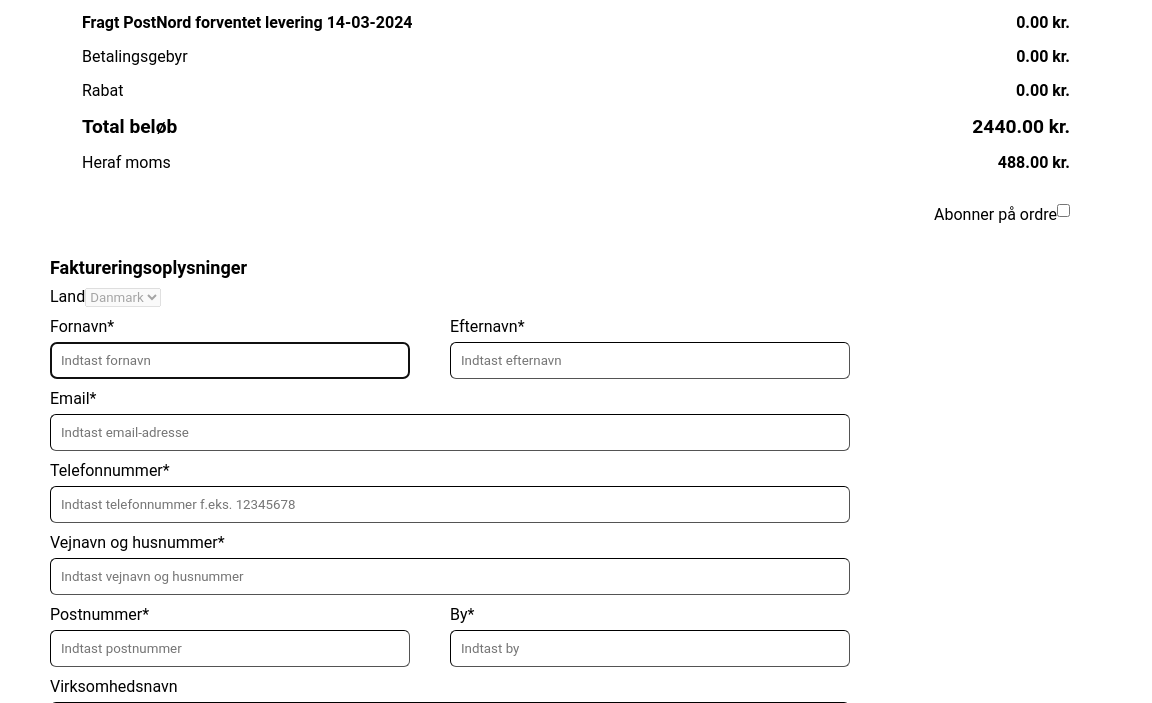
Test: Testing Contactform › field Telefonnummer should display "Telefonnummer skal være 8 tegn langt." when number is too short
(page scrolled)
In the field labelled "Telefonnummer*": {"x": 450, "y": 504} top-left (50, 486), bottom-right (850, 523), type "9999999"
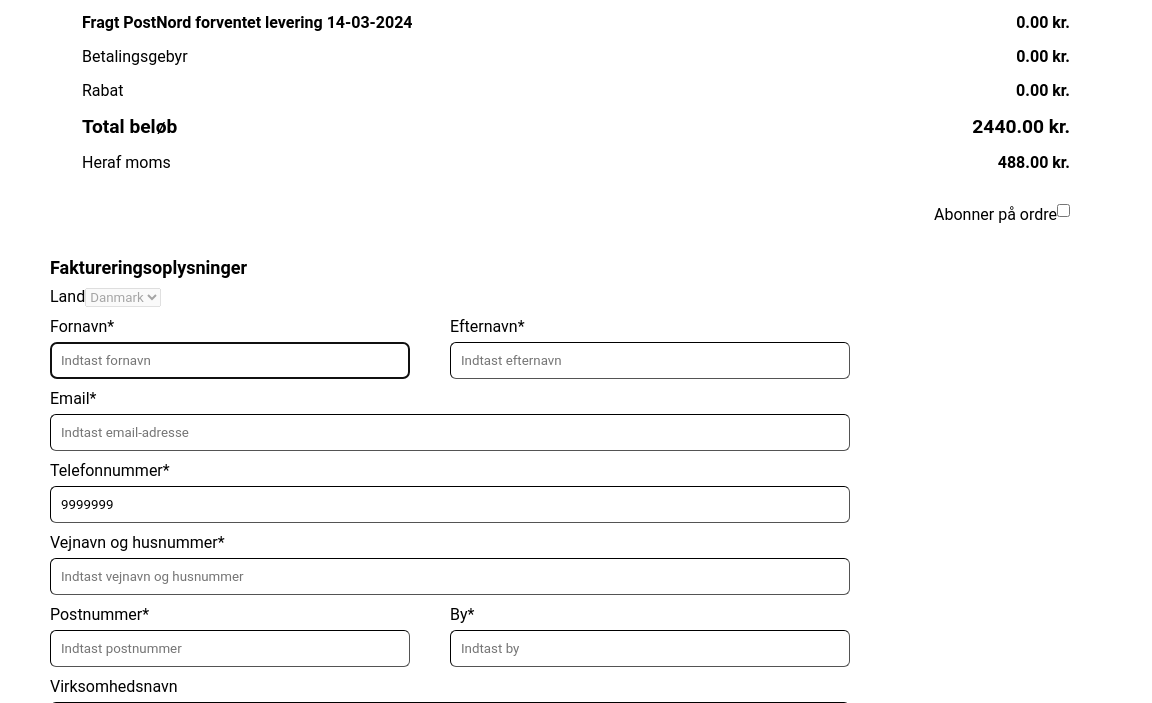
Leave the field labelled "Telefonnummer*", box top-left (50, 486), bottom-right (850, 523)
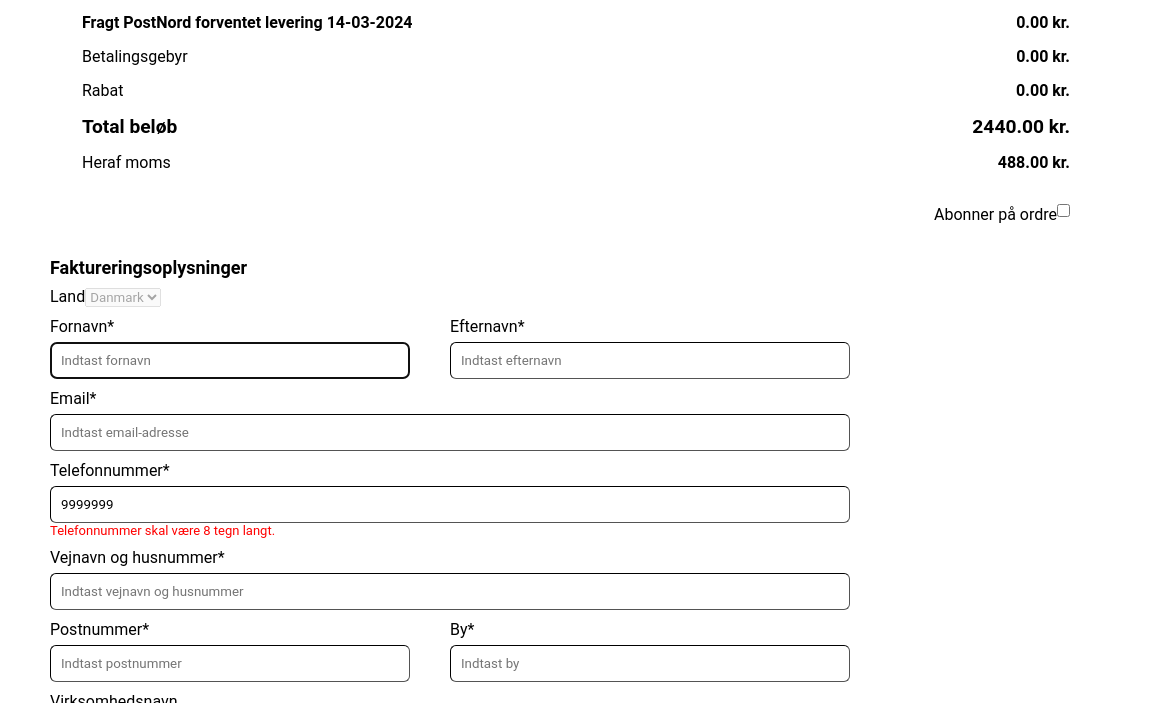
Expected: the text "Telefonnummer skal være 8 tegn langt." is shown, top-left (50, 523), bottom-right (275, 538)
